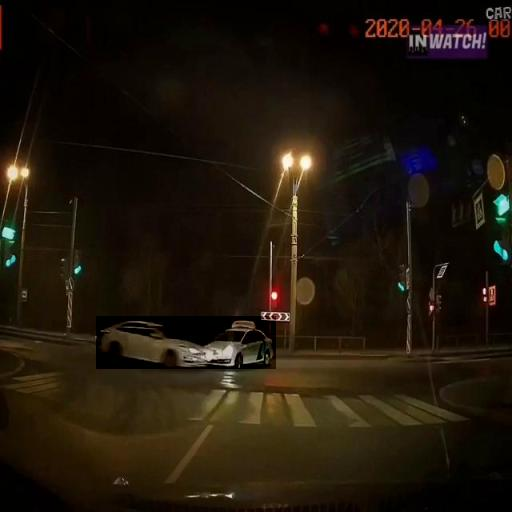小汽车撞小汽车: (96, 316, 276, 369)
